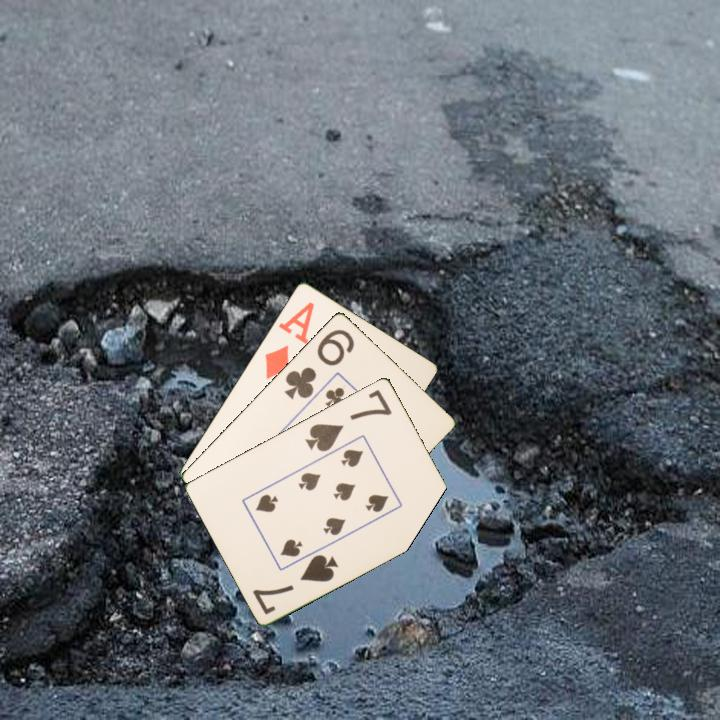6c: (281, 325, 357, 402)
7s: (301, 385, 395, 454), (249, 550, 341, 617)
Ad: (261, 298, 317, 382)
